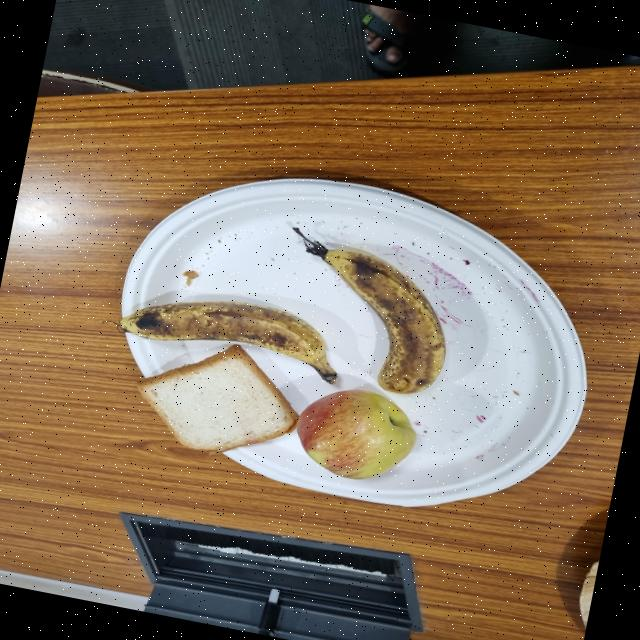apple: (209, 388, 325, 483)
banana: (324, 423, 509, 515), (328, 271, 423, 428)
